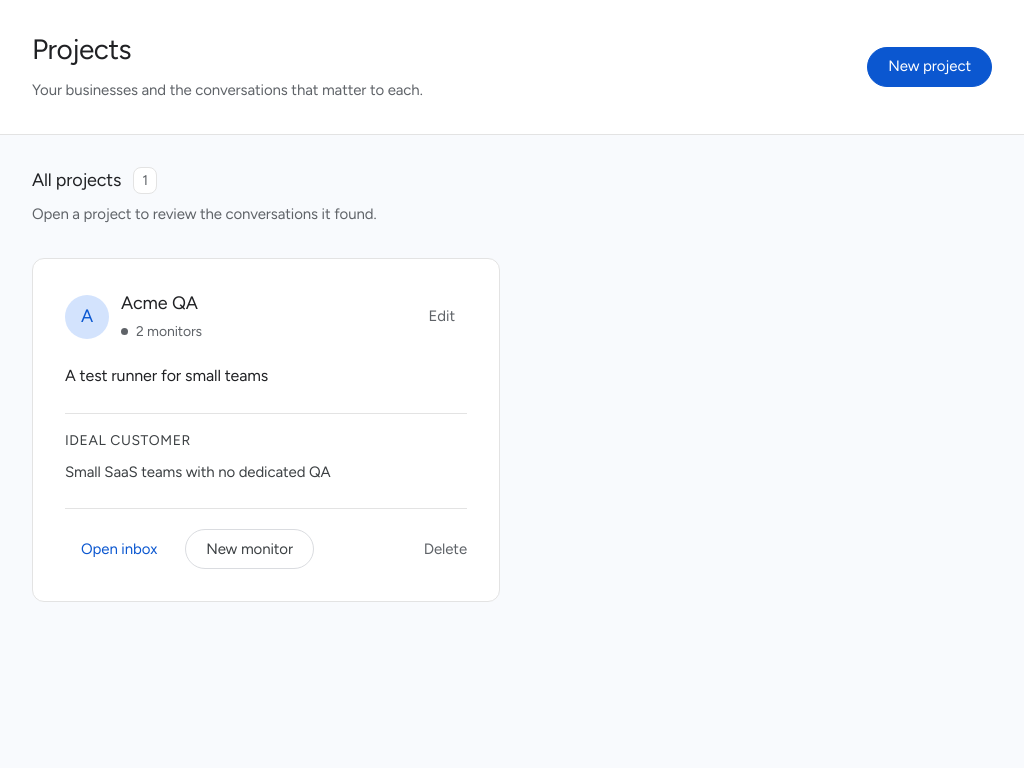
the projects screen › deleting a project › asks once, with the numbers, and sends nothing until the second press
Click the button "Delete". click: (445, 549)
box: 424,530 -> 467,569
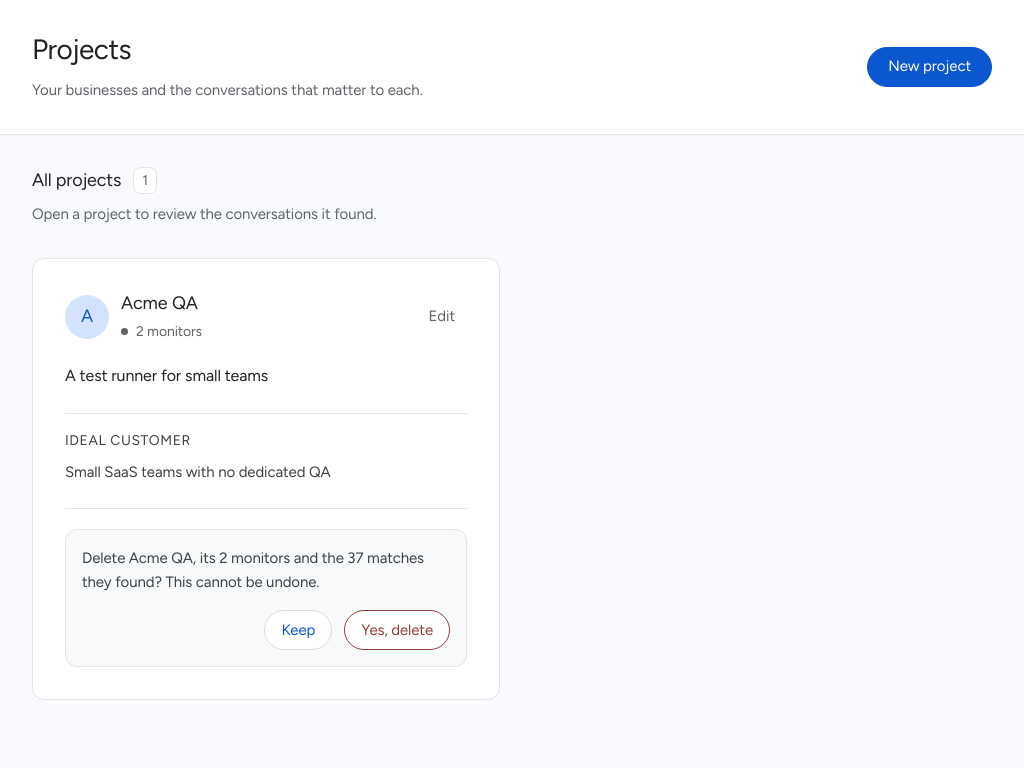
Expected: the text "Delete Acme QA, its 2 monitors and the 37 matches they found? This cannot be undone." is shown, 82,549 -> 424,591
Click the button "Yes, delete". click: (397, 630)
box: 344,610 -> 450,650
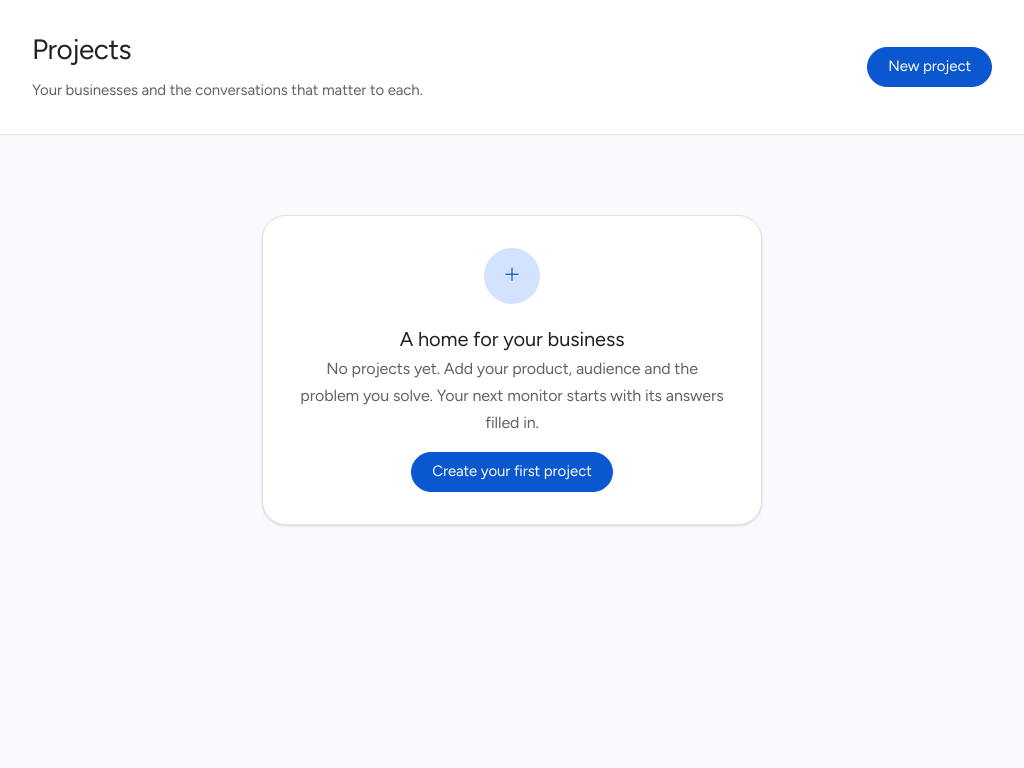
Expected: the text "No projects yet" is shown, 300,358 -> 724,432
